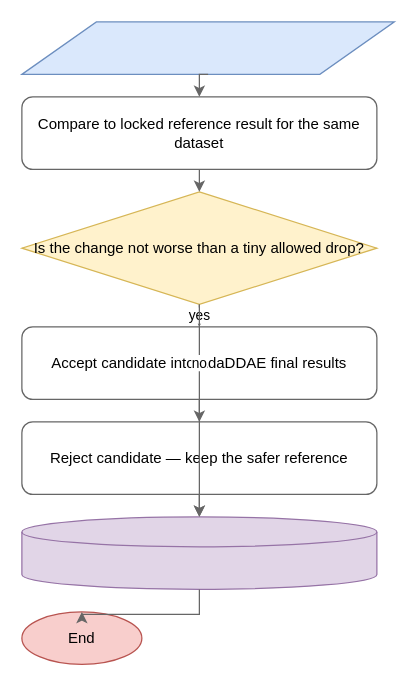
The diagram is 416 pixels wide and 686 high, and some of its shapes have lost their labels. Each missing label, with the centre of its shape:
New candidate result for one dataset: point (207, 47)
Record accept / reject in the merge check log: point (199, 552)
